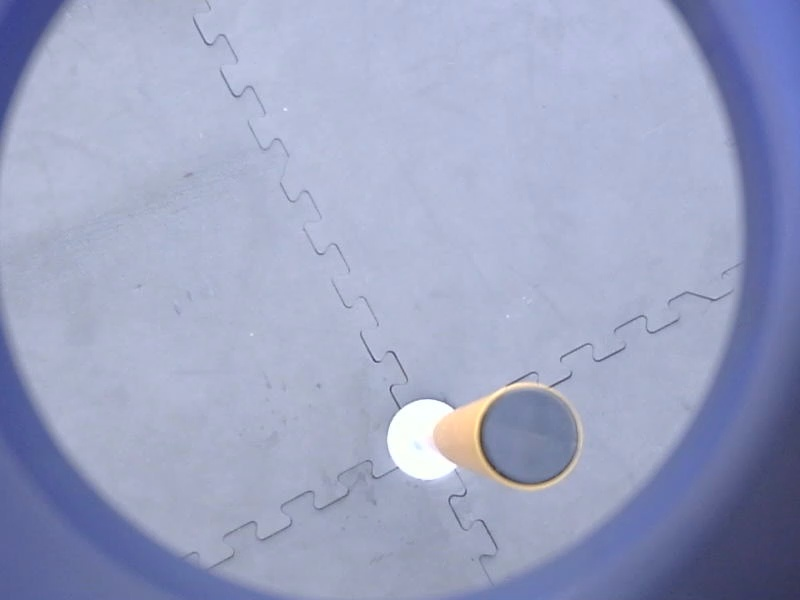tip: (472, 376, 589, 496)
